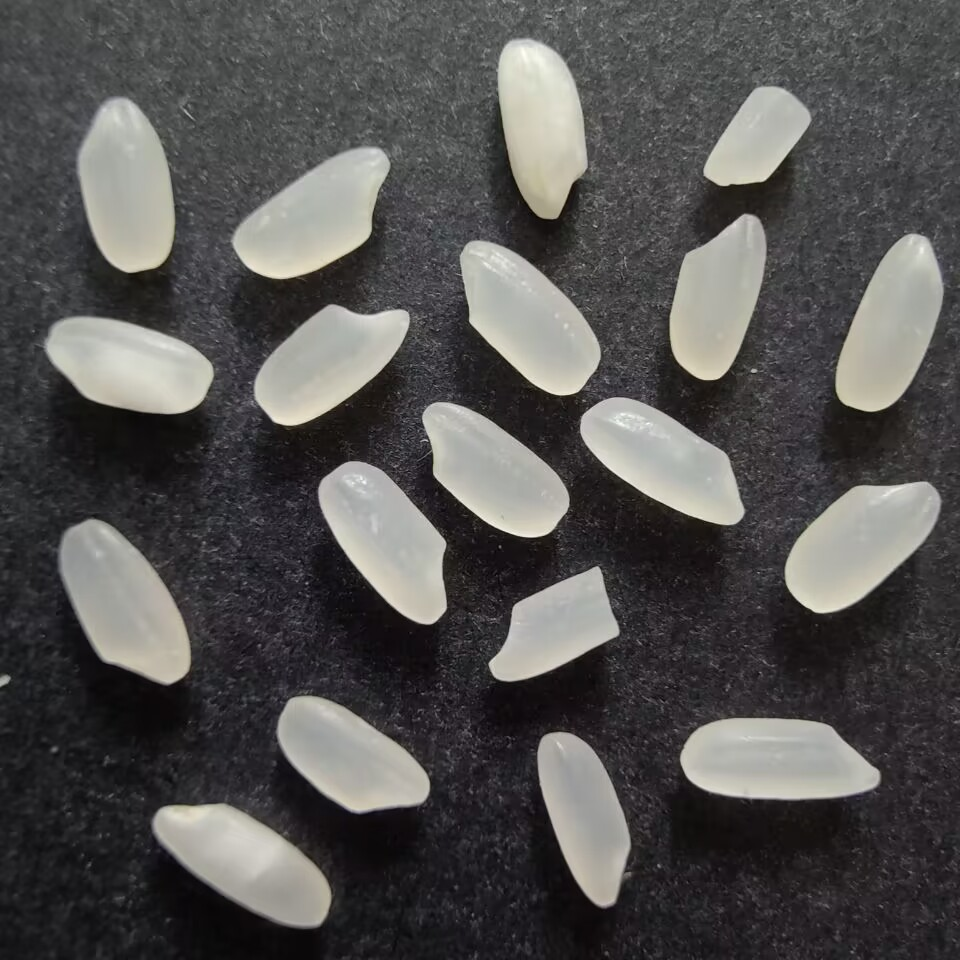broken: (486, 561, 629, 685), (700, 82, 814, 193)
rice: (144, 799, 334, 930), (455, 236, 604, 400), (315, 454, 450, 630), (778, 476, 947, 615), (55, 516, 192, 685), (226, 144, 392, 283), (579, 395, 748, 530), (250, 294, 411, 433), (417, 400, 572, 543), (831, 229, 945, 412), (273, 692, 435, 817), (70, 95, 179, 276), (531, 730, 637, 912), (493, 34, 595, 223), (41, 314, 217, 419), (666, 207, 771, 382), (676, 716, 888, 801)
